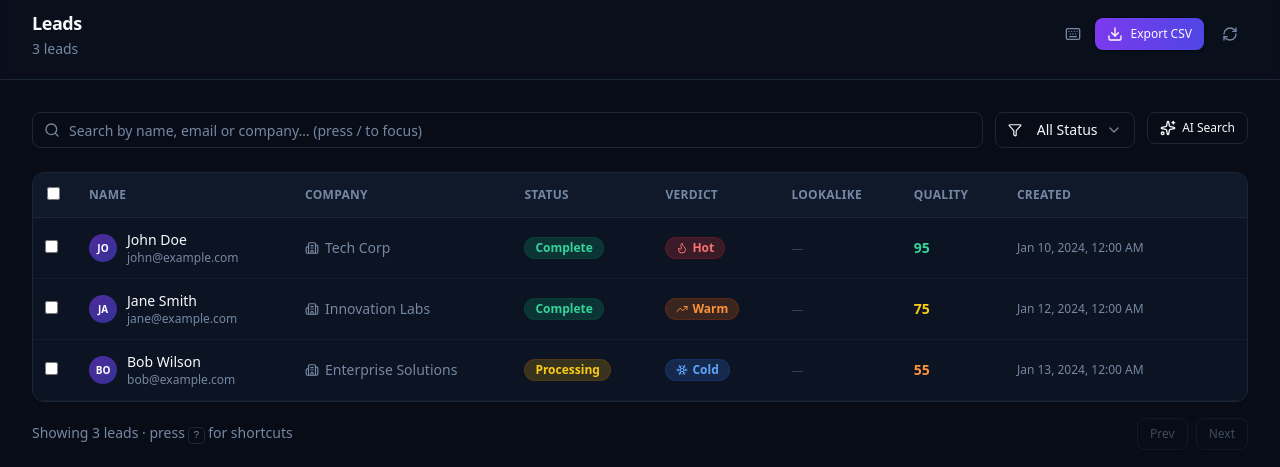
Leads page › filters leads by search query
The width and height of the screenshot is (1280, 467).
Expected: the text "John Doe" is shown, [127,230,187,249]
Type "Jane" into the field with placeholder "Search by name, email or company… (press / to focus)".
click(508, 130); type("Jane")  # box [32,112,983,148]
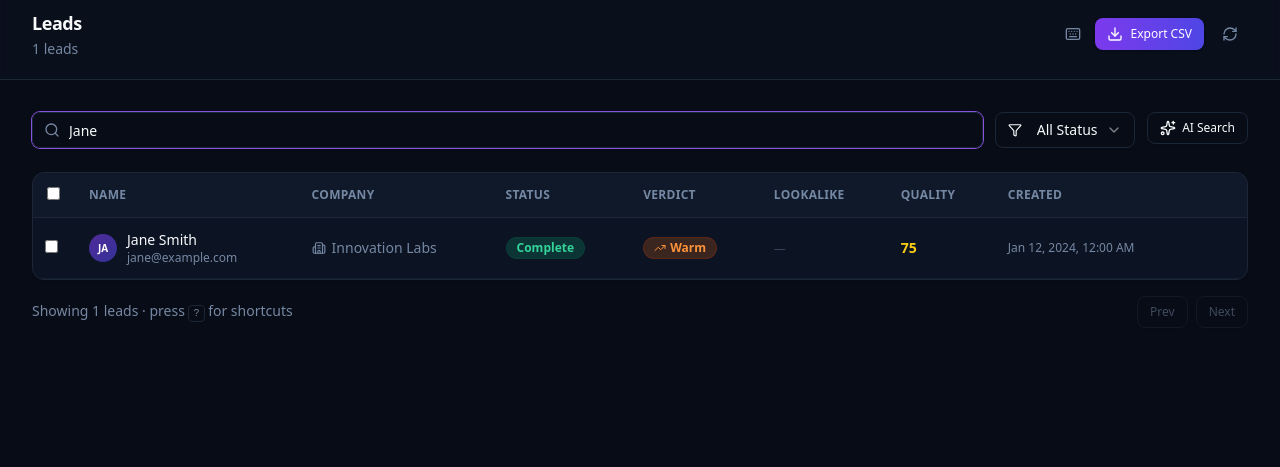
Expected: the text "Jane Smith" is shown, [127,230,197,249]
Expected: the text "John Doe" is gone
Expected: the text "Bob Wilson" is gone
